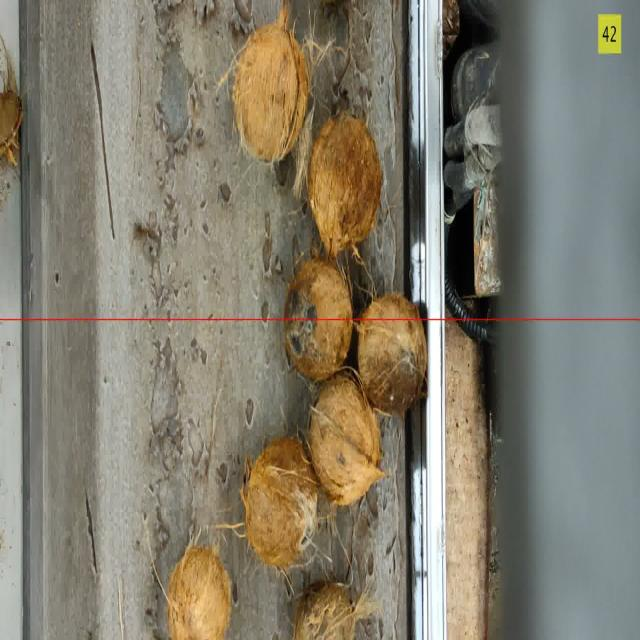Coconut-Conveyor-Belt: (309, 114, 382, 256), (242, 438, 317, 568), (309, 374, 383, 505), (358, 294, 427, 415), (285, 258, 352, 379), (242, 24, 303, 155), (168, 547, 230, 639), (294, 584, 356, 639), (0, 93, 20, 142)
